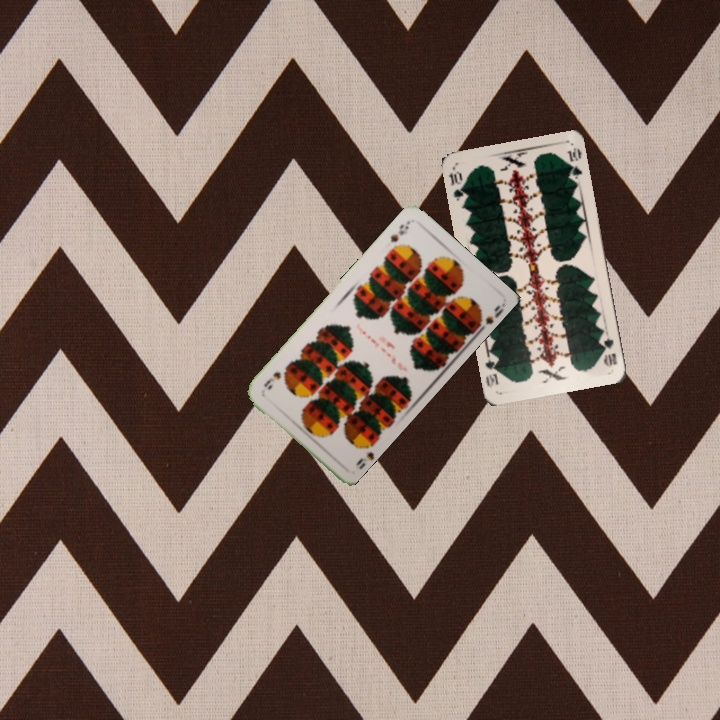G10: (444, 165, 468, 203), (599, 334, 620, 370)
S9: (352, 435, 377, 471), (386, 217, 412, 245)
